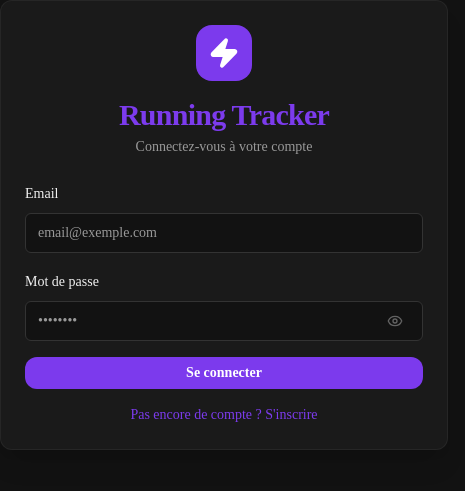
Scenario: LoginCard › inline error handling › shows email field error when email is already taken
Step 1. Click the button "Pas encore de compte ? S'inscrire" → (224, 415), box [130,405,318,425]
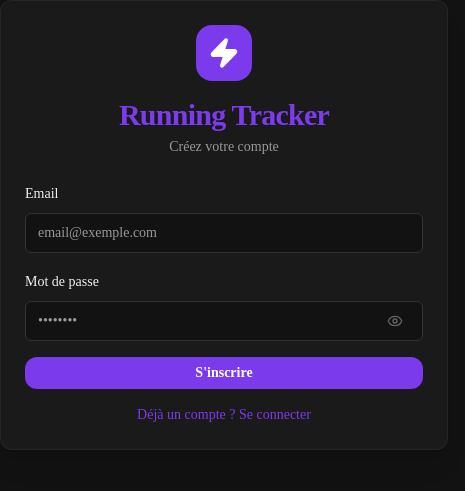
Step 2. Type "existing@example.com" into the field with test id "login-email" → (224, 233), box [25,213,423,253]
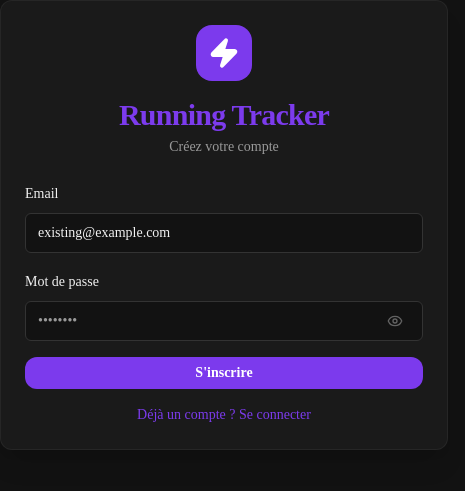
Step 3. Type "password123" into the password field with test id "login-password" → (224, 321), box [25,301,423,341]
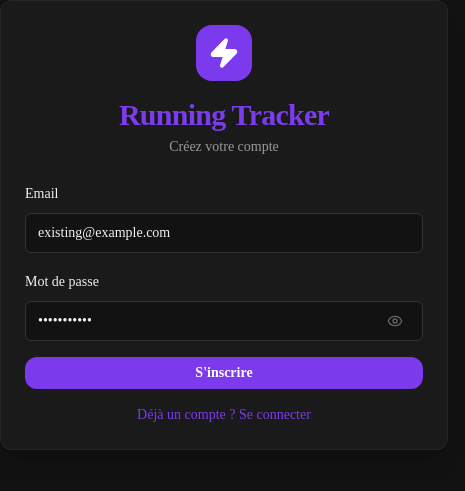
Step 4. Click the button with test id "login-submit" → (224, 373), box [25,357,423,389]
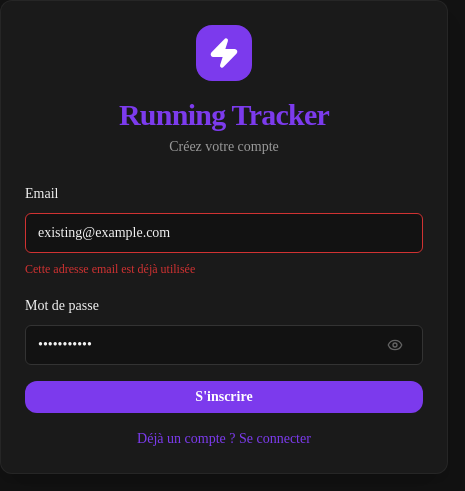
Result: the text "Cette adresse email est déjà utilisée" is shown at [25,262,195,276]
